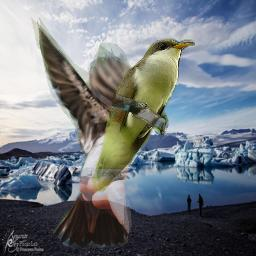Cuckoo: (90, 38, 195, 192)
Swallow: (30, 17, 169, 248)
